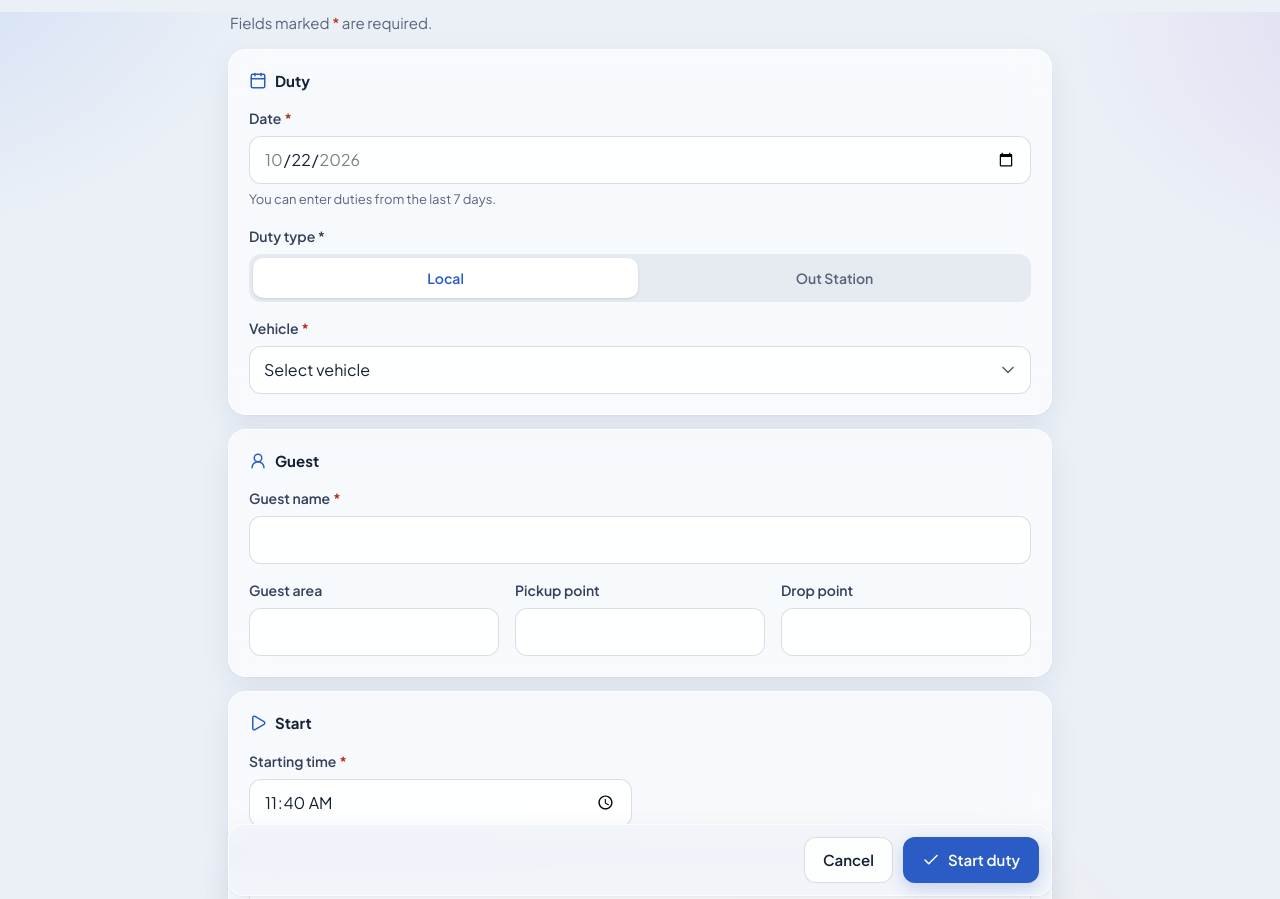
Start duty form › shows KM fields only for fleet vehicles, plus a details box for Others
Expected: the field labelled "Starting KM" is not shown
Step 1. Select "CRYSTA 6435" in the dropdown labelled "Vehicle*" → (640, 370), box [249,346,1031,394]
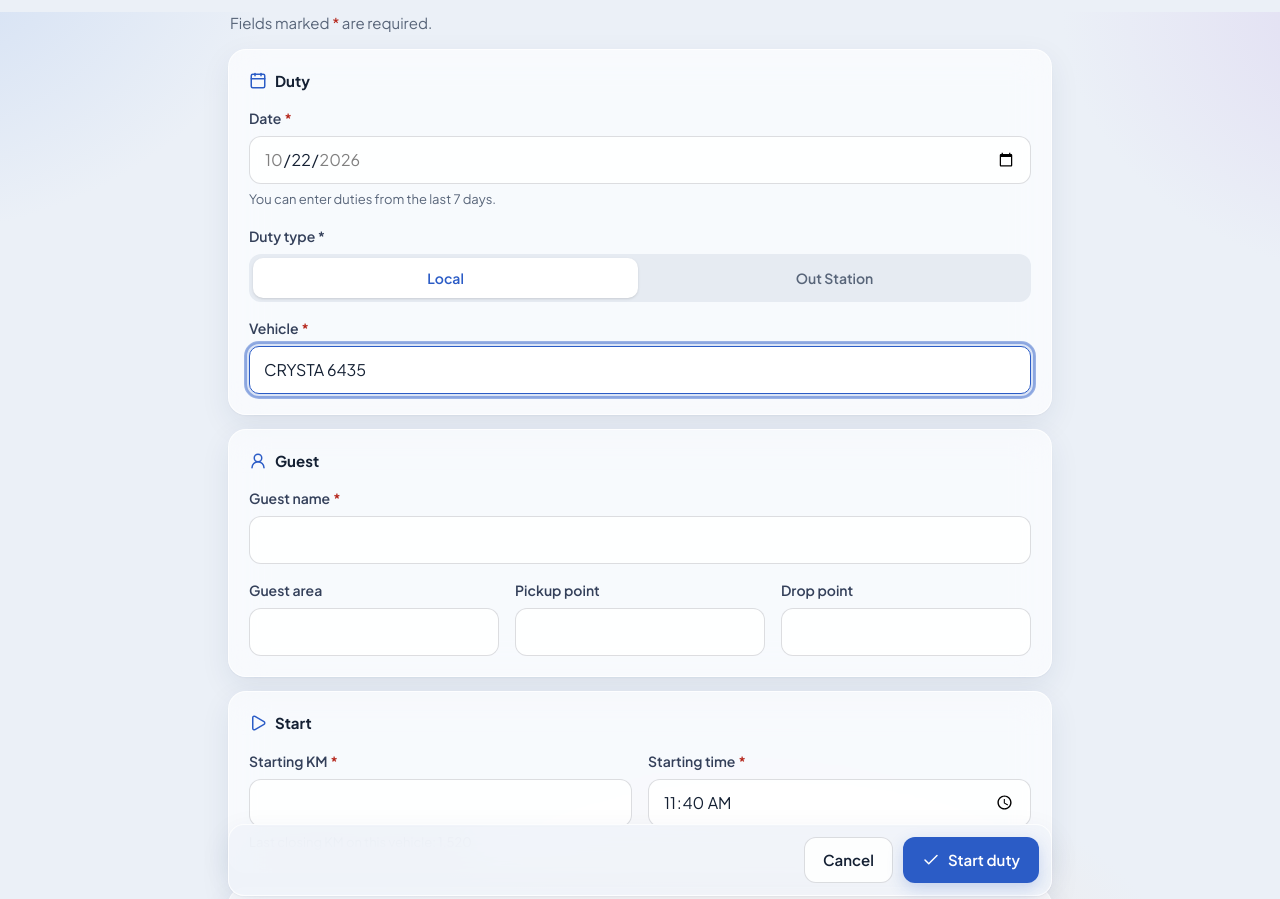
Expected: the field labelled "Starting KM* Last closing KM on this vehicle: 1,520" is shown, [249,778,632,826]
Step 2. Select "Own (guest’s vehicle)" in the dropdown labelled "Vehicle*" → (640, 370), box [249,346,1031,394]
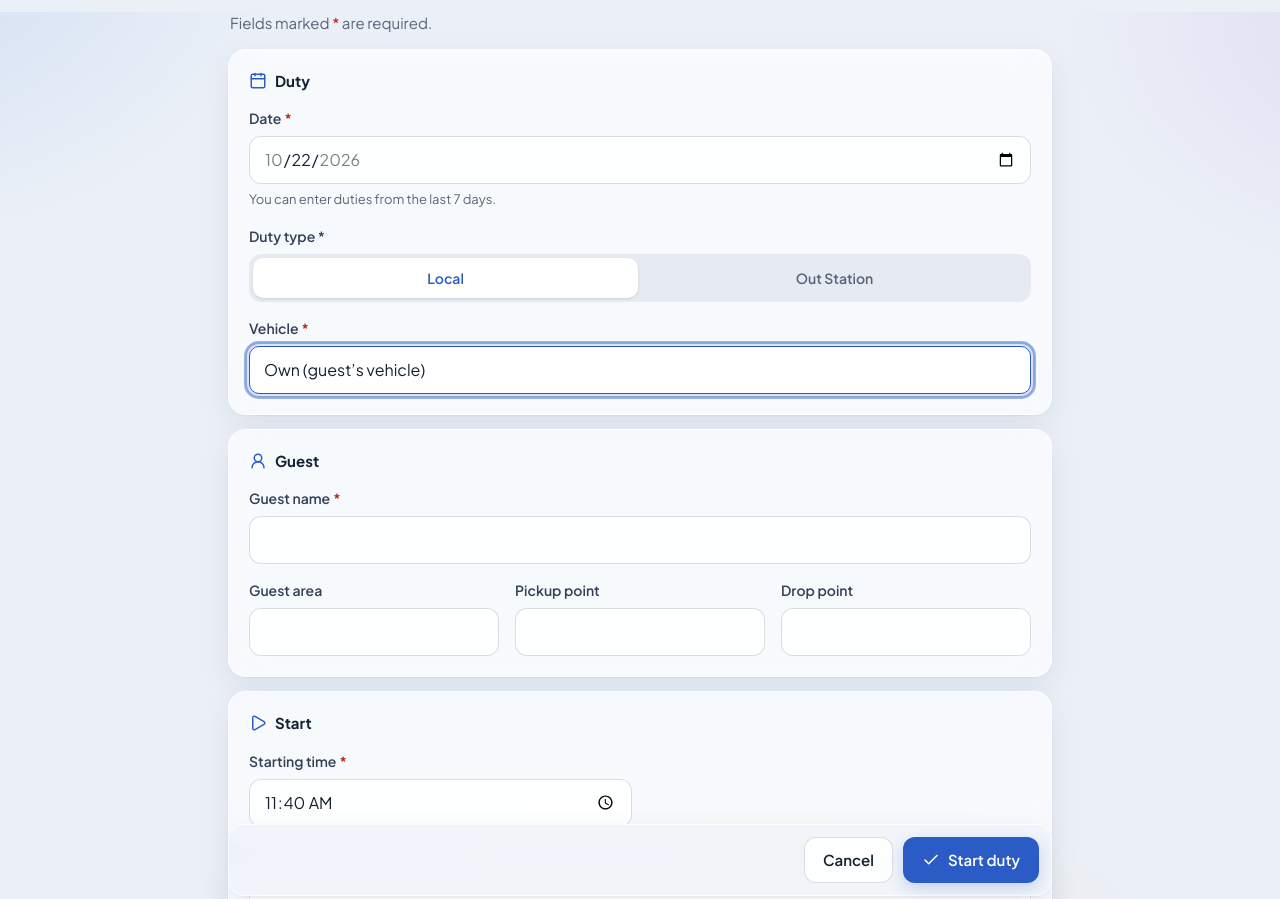
Expected: the field labelled "Starting KM" is gone
Step 3. Select "Others" in the dropdown labelled "Vehicle*" → (640, 370), box [249,346,1031,394]
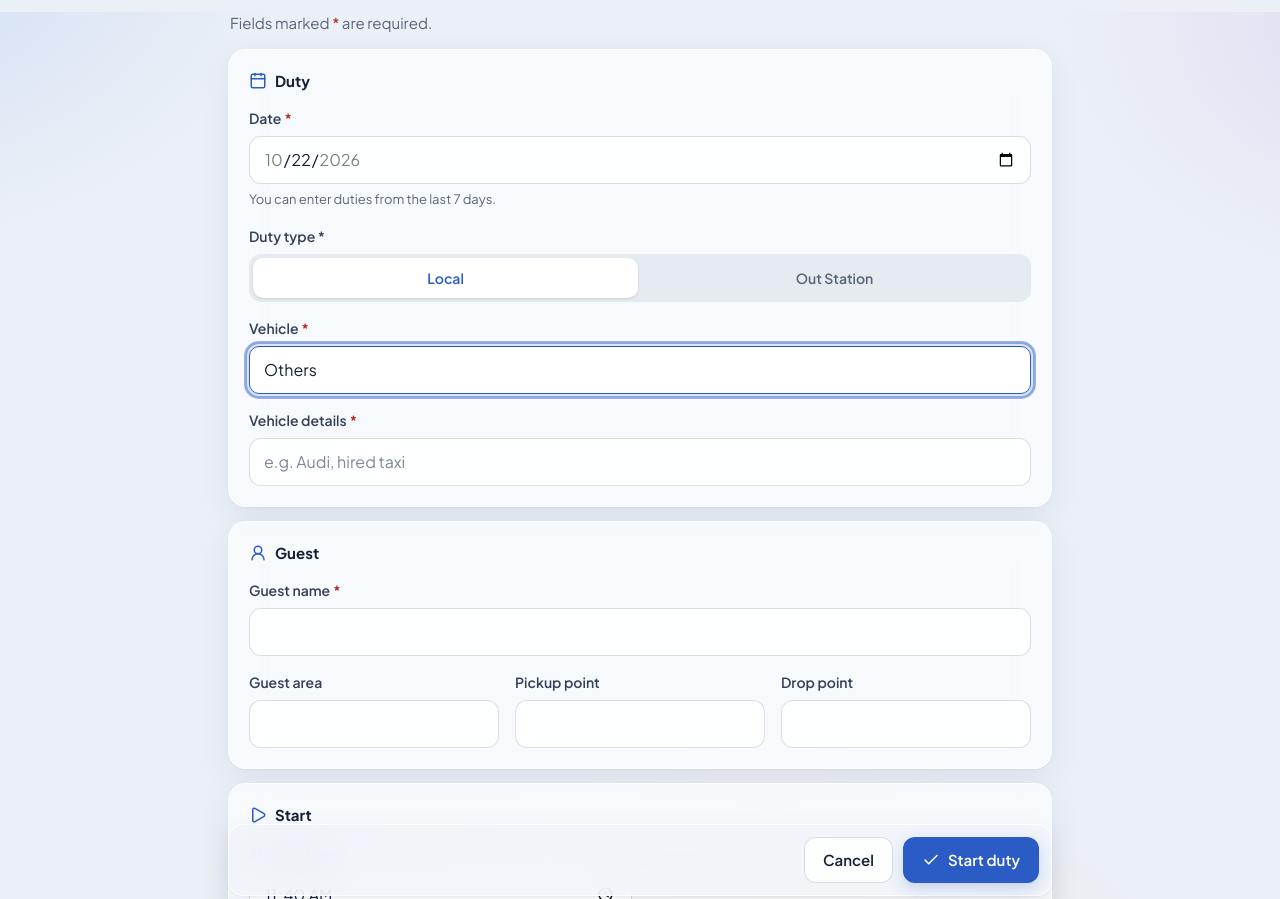
Expected: the field labelled "Vehicle details*" is shown, [249,438,1031,486]
